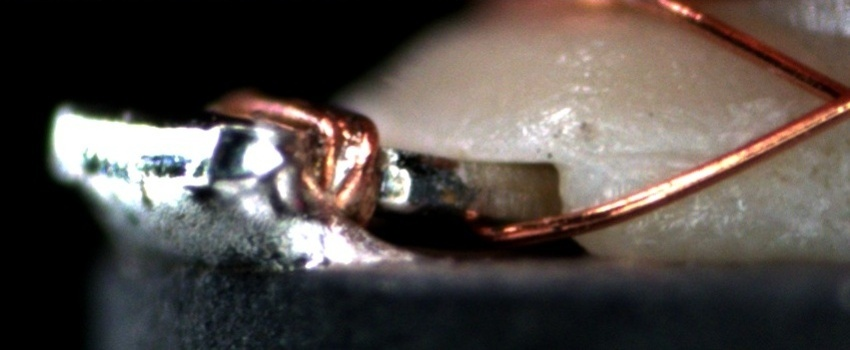CL: (799, 65, 850, 131)
DL: (586, 128, 711, 186)
TE: (219, 90, 389, 230)
